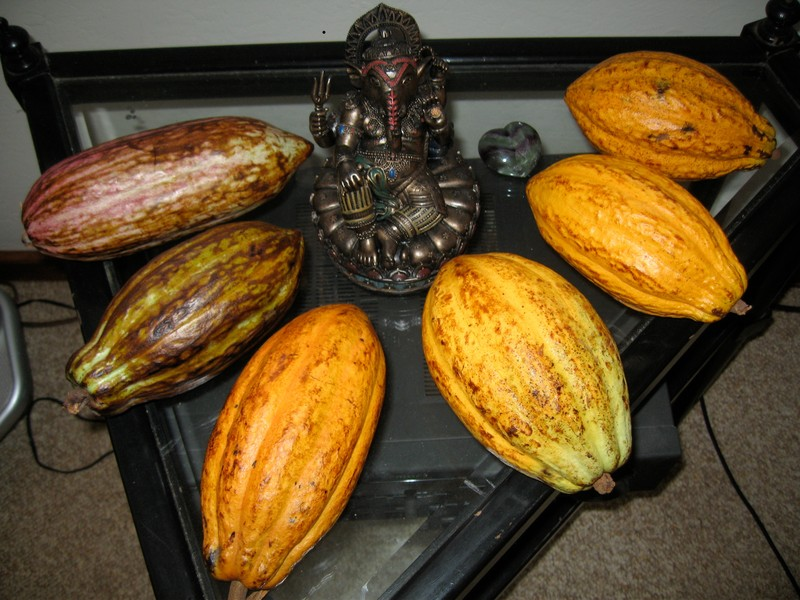Cacaopod: (198, 303, 390, 593), (420, 249, 642, 496), (17, 114, 317, 265)
